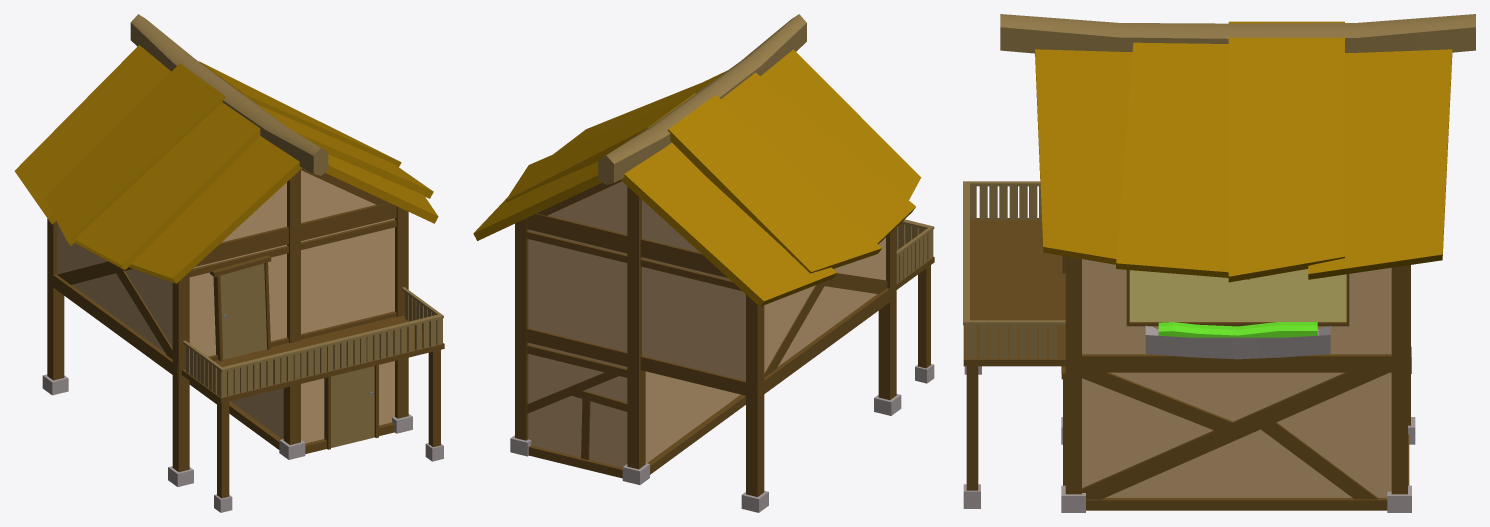
File: mesh_Balcony.fbx
3 renders of one model, left to right at view 1: azimuth 30°, elevation 25°; view 2: azimuth 150°, elevation 25°; view 3: azimuth 270°, elevation 25°, orthographic. The views are drawn at different scales.
Parts seen in each view (by area): view 1: Balcony; view 2: Balcony; view 3: Balcony.
Boxes of the visible parts, bbox=[...] form: Balcony: bbox=[14, 14, 444, 512]; Balcony: bbox=[473, 14, 934, 512]; Balcony: bbox=[963, 14, 1475, 512].
Size of the model in its own units: 931 by 870 by 949.
Materials: 1 (1 with a texture image).
